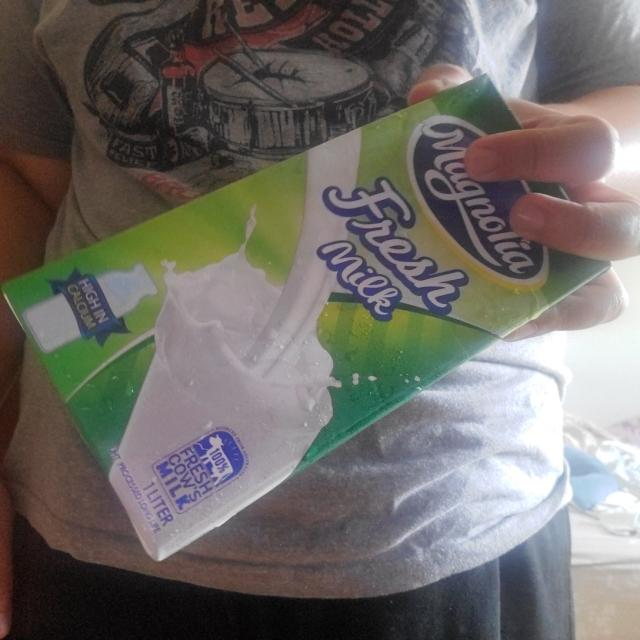milk: (0, 75, 611, 560)
